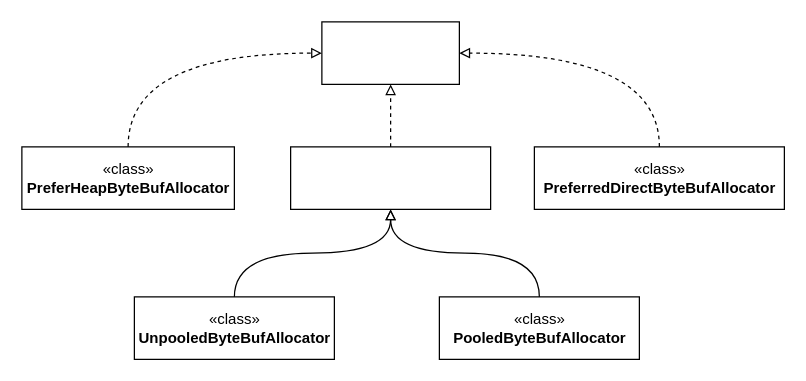
Image size: 806x381. Some labels were removed from this diagram. Each missing label, with the centre of its shape:
"«class» AbstractByteBufAllocator" belongs at point (390, 177).
"«interface» ByteBufAllocator" belongs at point (390, 52).
